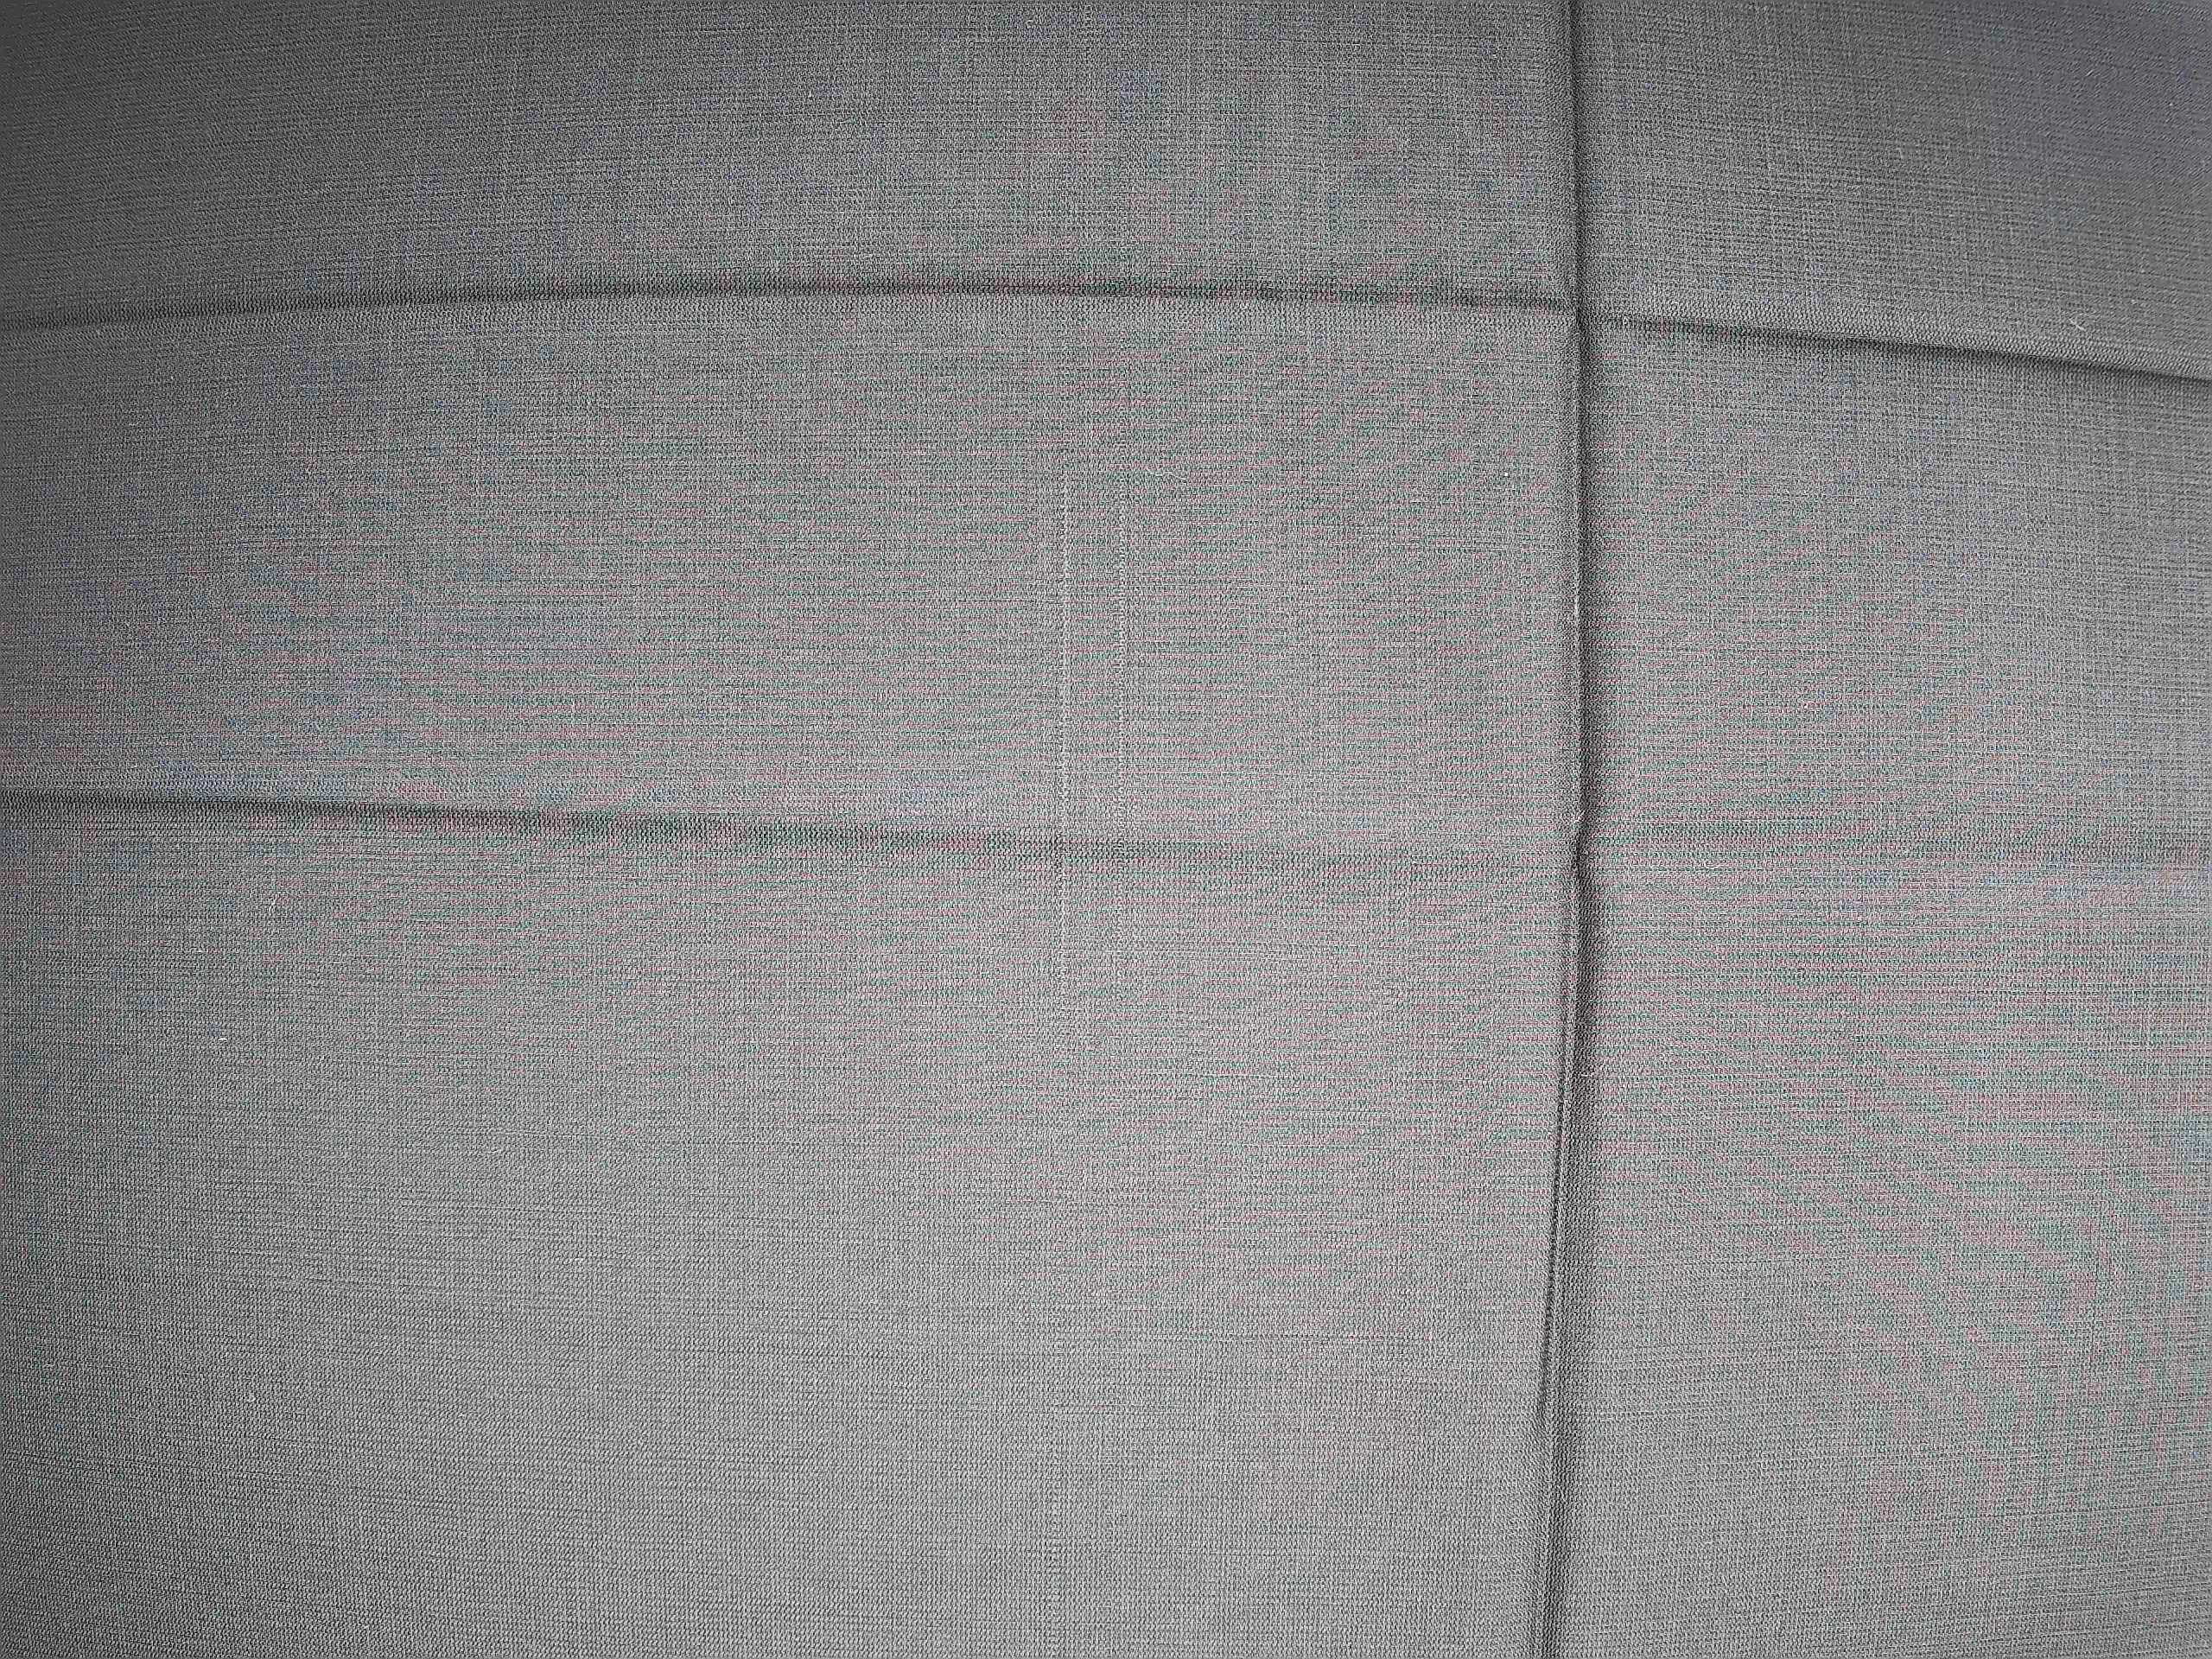hanging-warp: (1035, 450, 1143, 1049)
